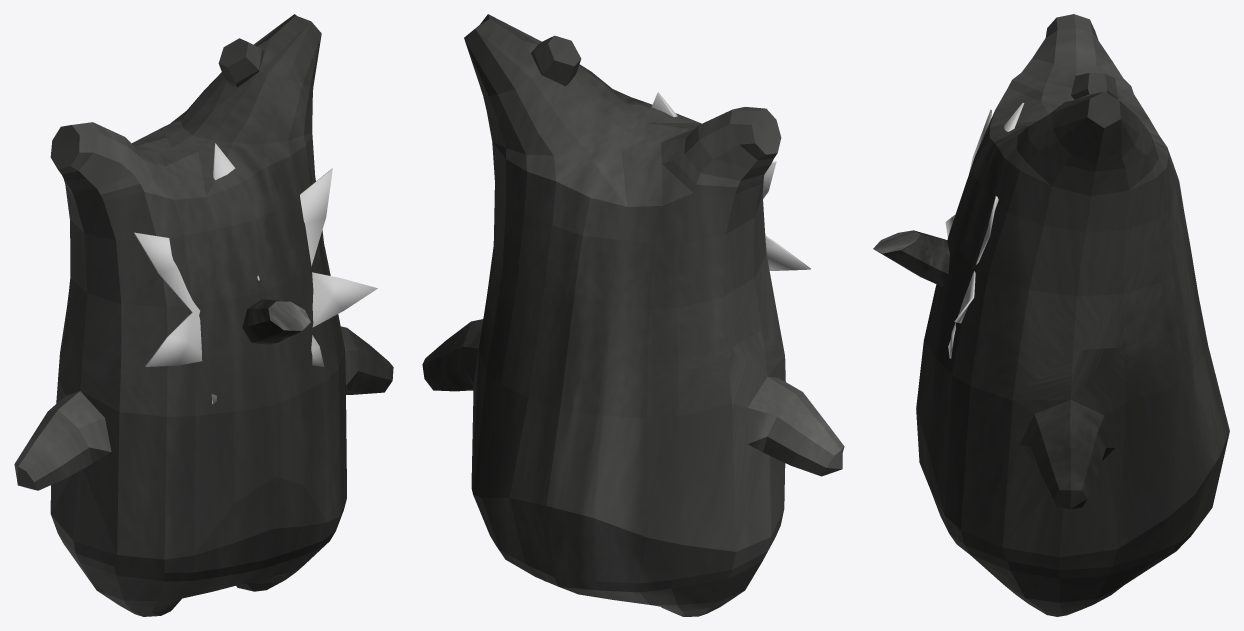
File: frame_0007.obj
3 renders of one model, left to right at view 1: azimuth 30°, elevation 25°; view 2: azimuth 150°, elevation 25°; view 3: azimuth 270°, elevation 25°, orthographic. The views are drawn at different scales.
Parts seen in each view (by area): view 1: korok, leaf, nose.003_柱体.011; view 2: korok, leaf; view 3: korok, nose.003_柱体.011, leaf.
Boxes of the visible parts, bbox=[...] form: korok: bbox=[14, 14, 393, 616]; leaf: bbox=[134, 143, 377, 404]; nose.003_柱体.011: bbox=[242, 299, 310, 344]; korok: bbox=[422, 14, 844, 616]; leaf: bbox=[651, 92, 810, 270]; korok: bbox=[916, 14, 1229, 616]; nose.003_柱体.011: bbox=[873, 230, 949, 286]; leaf: bbox=[945, 103, 1024, 358].
Bounding box in the file's own units: 1.68 × 2.27 × 1.33.
